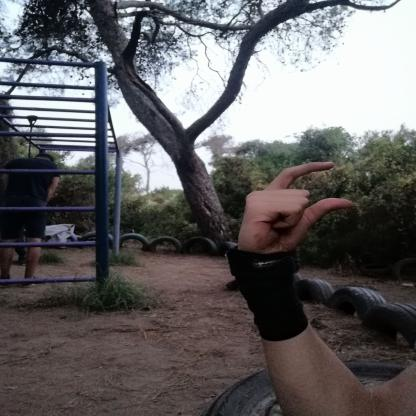DELL: (222, 154, 362, 272)
